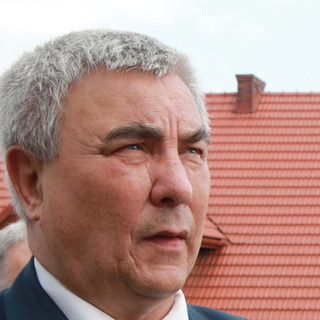eye: (106, 136, 155, 160), (179, 141, 206, 162)
